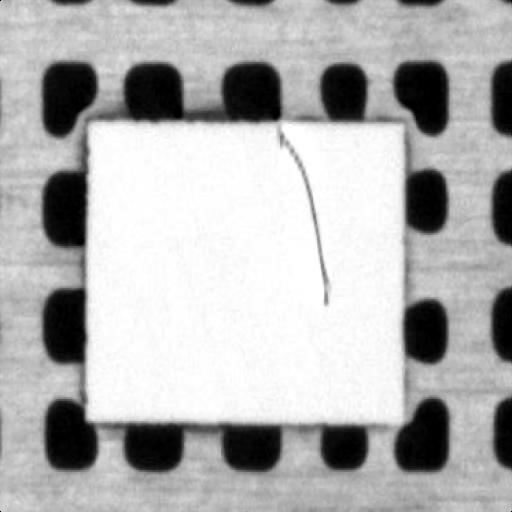DIE_INK: (276, 130, 332, 312)
